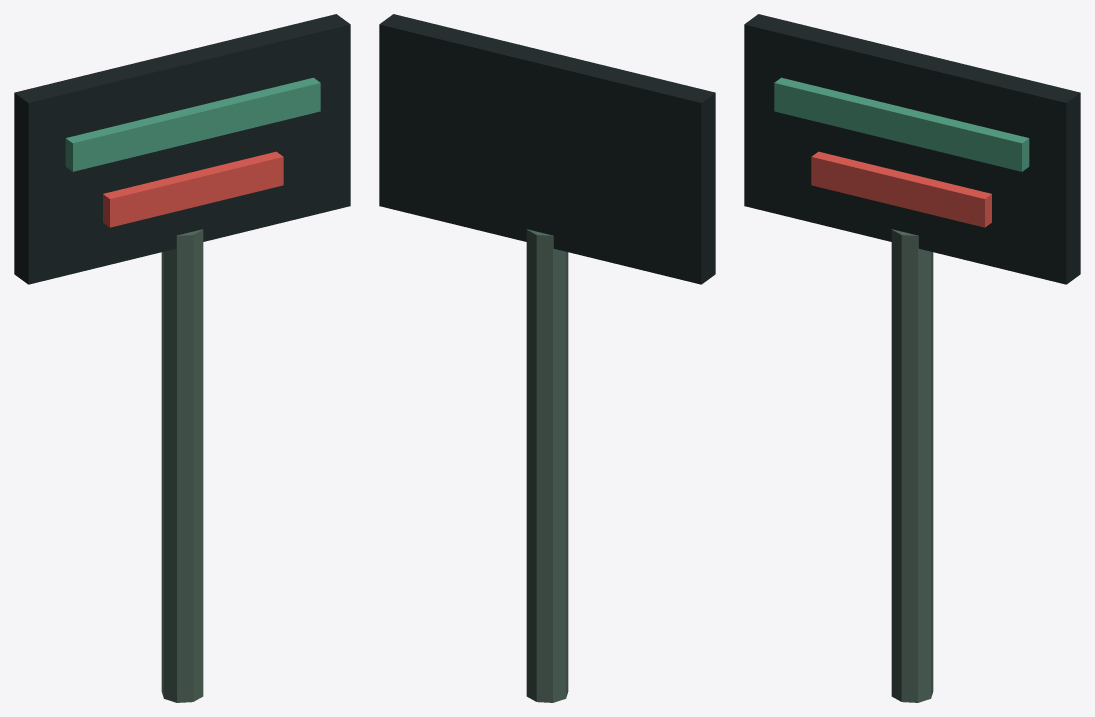
Rendered from ParkParkDecorNeonSign.obj.
The picture shows the model from 3 angles, left to right: view 1: azimuth 30°, elevation 25°; view 2: azimuth 150°, elevation 25°; view 3: azimuth 330°, elevation 25°; orthographic projection.
Visible parts, largest first — view 1: ParkParkDecorNeonSign; view 2: ParkParkDecorNeonSign; view 3: ParkParkDecorNeonSign.
Part boxes in pixels (<box>): ParkParkDecorNeonSign: <box>14,14,350,702</box>; ParkParkDecorNeonSign: <box>379,14,715,702</box>; ParkParkDecorNeonSign: <box>744,14,1080,702</box>.
Bounding box in the file's own units: 2.6 × 4.9 × 0.35.
